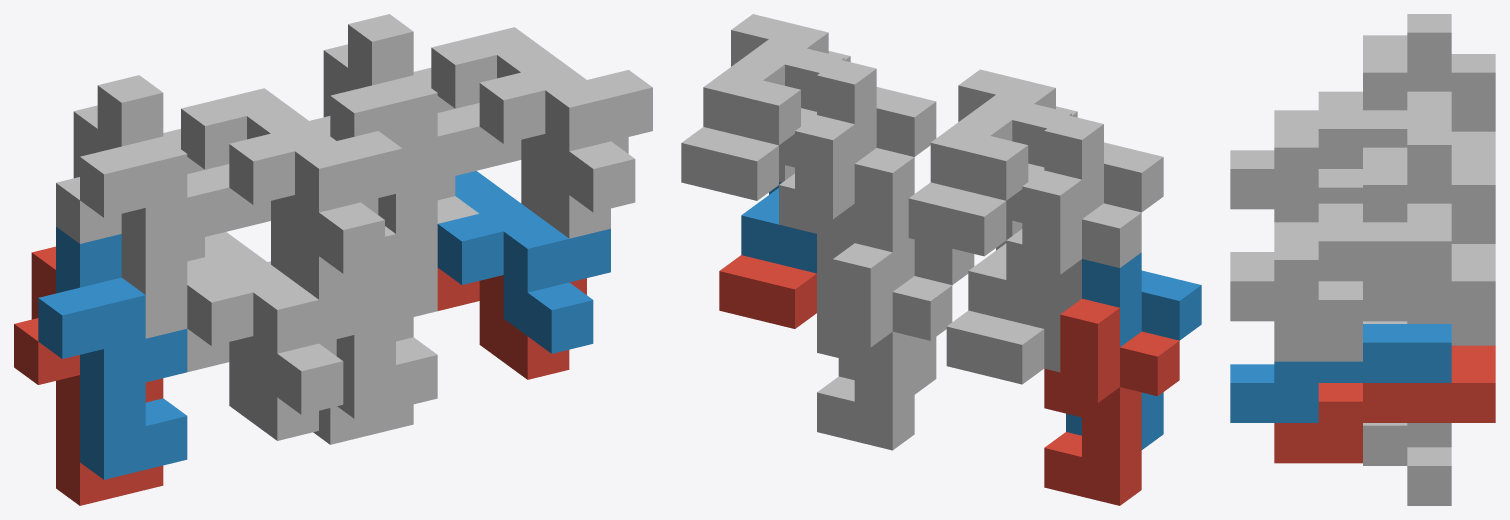
File: tiling.obj
The picture shows the model from 3 angles, left to right: view 1: azimuth 30°, elevation 25°; view 2: azimuth 150°, elevation 25°; view 3: azimuth 270°, elevation 25°; orthographic projection. The views are drawn at different scales.
Visible parts, largest first — view 1: copy_1_domain_2, copy_2_domain_8, copy_2_domain_4, copy_1_domain_4, copy_1_domain_8, copy_2_domain_6, copy_2_domain_2, copy_1_domain_6, copy_1_domain_1, copy_2_domain_7, copy_2_domain_3, copy_2_domain_5 (+4 smaller); view 2: copy_1_domain_5, copy_1_domain_1, copy_1_domain_3, copy_1_domain_7, copy_2_domain_4, copy_2_domain_8, copy_1_domain_2, copy_1_domain_8, copy_1_domain_4, copy_1_domain_6, copy_2_domain_3, copy_2_domain_7 (+4 smaller); view 3: copy_2_domain_8, copy_2_domain_4, copy_2_domain_7, copy_2_domain_5, copy_2_domain_6, copy_1_domain_8, copy_1_domain_4, copy_1_domain_5, copy_2_domain_3, copy_1_domain_7, copy_1_domain_3, copy_1_domain_6 (+1 smaller).
Boxes of the visible parts, x1,y1,x2,y2 form: copy_1_domain_2: (38, 227, 187, 479); copy_2_domain_8: (431, 27, 652, 212); copy_2_domain_4: (181, 88, 402, 273); copy_1_domain_4: (80, 75, 229, 338); copy_1_domain_8: (330, 14, 479, 277); copy_2_domain_6: (437, 171, 610, 353); copy_2_domain_2: (187, 232, 360, 414); copy_1_domain_6: (336, 226, 437, 418); copy_1_domain_1: (14, 246, 163, 505); copy_2_domain_7: (413, 68, 628, 238); copy_2_domain_3: (163, 129, 378, 299); copy_2_domain_5: (437, 268, 586, 379); copy_1_domain_5: (817, 243, 952, 450); copy_1_domain_1: (1044, 298, 1179, 505); copy_1_domain_3: (1006, 170, 1141, 372); copy_1_domain_7: (779, 115, 914, 316); copy_2_domain_4: (930, 69, 1077, 200); copy_2_domain_8: (703, 14, 850, 145); copy_1_domain_2: (1066, 252, 1201, 449); copy_1_domain_8: (817, 59, 936, 163); copy_1_domain_4: (1044, 115, 1163, 218); copy_1_domain_6: (838, 201, 974, 394); copy_2_domain_3: (908, 163, 1044, 256); copy_2_domain_7: (681, 108, 816, 200); copy_2_domain_8: (1230, 203, 1451, 321); copy_2_domain_4: (1230, 91, 1451, 209); copy_2_domain_7: (1274, 244, 1495, 361); copy_2_domain_5: (1274, 345, 1495, 463); copy_2_domain_6: (1230, 324, 1451, 422); copy_1_domain_8: (1363, 126, 1451, 323); copy_1_domain_4: (1363, 14, 1451, 110); copy_1_domain_5: (1407, 321, 1495, 505); copy_2_domain_3: (1274, 131, 1495, 222); copy_1_domain_7: (1407, 166, 1495, 323); copy_1_domain_3: (1451, 54, 1495, 131); copy_1_domain_6: (1363, 423, 1407, 465).
Size of the model in its own units: 13 by 9 by 6.
